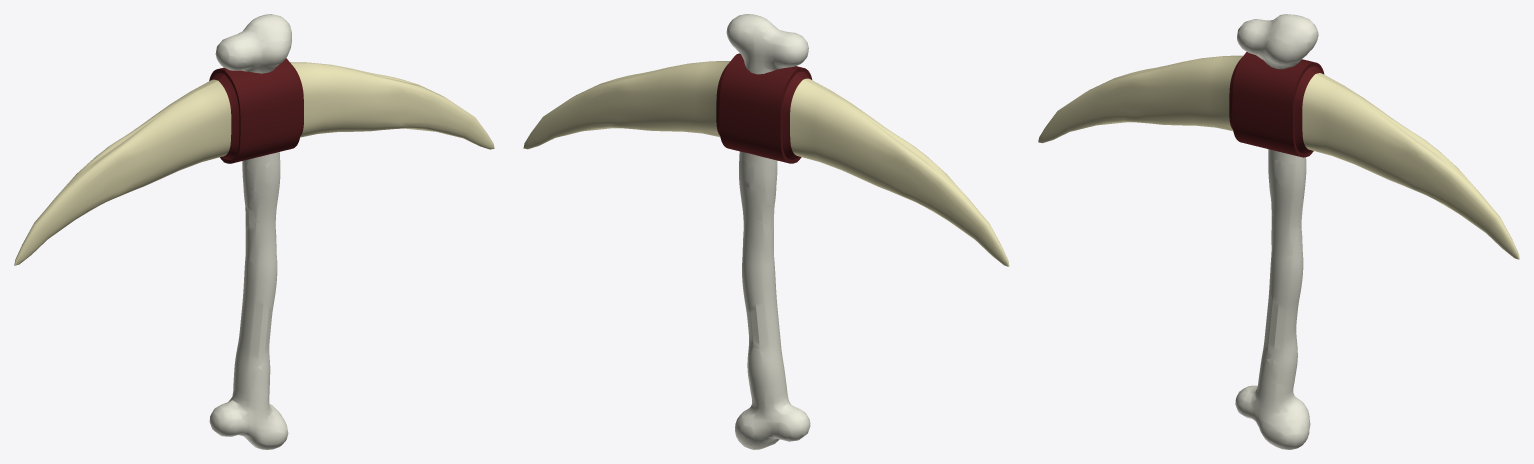
Rendered from pickaxe.fbx.
3 renders of one model, left to right at view 1: azimuth 30°, elevation 25°; view 2: azimuth 150°, elevation 25°; view 3: azimuth 330°, elevation 25°, orthographic.
Visible parts, largest first — view 1: Cube.001; view 2: Cube.001; view 3: Cube.001.
Boxes of the visible parts, box(x1,y1,x2,y2) form: Cube.001: box(14, 14, 494, 449); Cube.001: box(523, 14, 1009, 449); Cube.001: box(1038, 14, 1519, 449).
Bounding box in the file's own units: 104 × 88.86 × 12.28.
